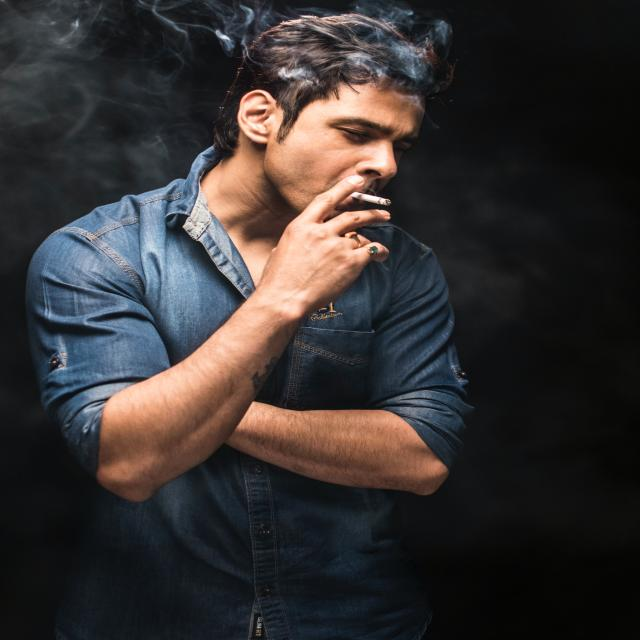cigarette: (334, 170, 404, 208)
